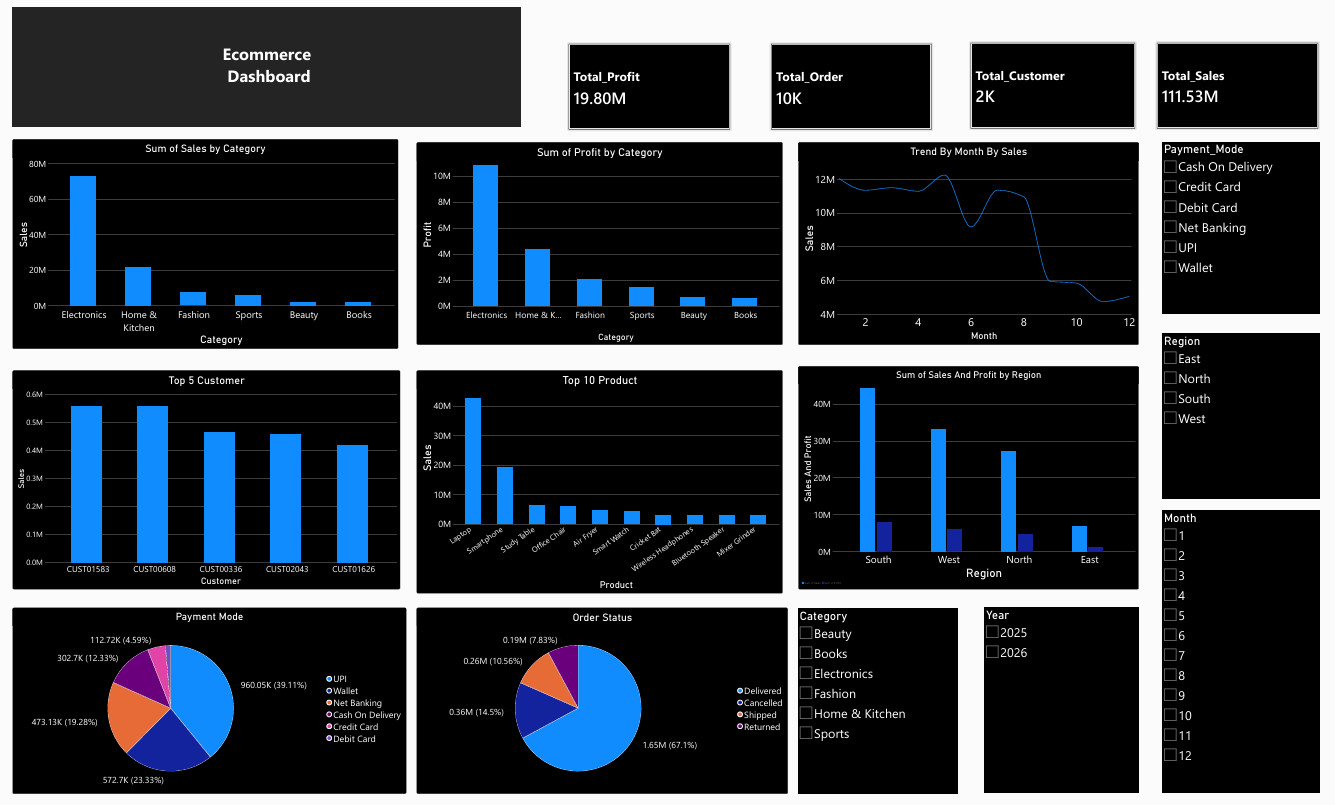

Layout of this report page (visuals, bound fields, positions):
{"tool":"powerbi","page":{"name":"Page 1","canvas":[7000,4449],"ordinal":0},"visuals":[{"type":"clusteredColumnChart","title":"Sum of Sales by Category","fields":{"Category":["Ecommerce_Cleaned_Data.Category"],"Y":["Sum(Ecommerce_Cleaned_Data.Sales)"]},"box":[135,745,1885,1025],"z":4000},{"type":"clusteredColumnChart","title":"Sum of Profit by Category","fields":{"Category":["Ecommerce_Cleaned_Data.Category"],"Y":["Sum(Ecommerce_Cleaned_Data.Profit)"]},"box":[2110,760,1790,990],"z":5000},{"type":"clusteredColumnChart","title":"Sum of Sales And Profit by Region","fields":{"Y":["Sum(Ecommerce_Cleaned_Data.Sales)","Sum(Ecommerce_Cleaned_Data.Profit)"],"Category":["Ecommerce_Cleaned_Data.Region"]},"box":[3975,1855,1665,1090],"z":6000},{"type":"lineChart","title":"Trend By Month By Sales","fields":{"Category":["Ecommerce_Cleaned_Data.Month"],"Y":["Sum(Ecommerce_Cleaned_Data.Sales)"]},"box":[3975,760,1665,990],"z":7000},{"type":"clusteredColumnChart","title":"Top 10 Product","fields":{"Category":["Ecommerce_Cleaned_Data.Product"],"Y":["Sum(Ecommerce_Cleaned_Data.Sales)"]},"box":[2110,1875,1790,1090],"z":8000},{"type":"clusteredColumnChart","title":"Top 5 Customer","fields":{"Y":["Sum(Ecommerce_Cleaned_Data.Sales)"],"Category":["Ecommerce_Cleaned_Data.Customer_ID"]},"box":[135,1875,1895,1070],"z":9000},{"type":"pieChart","title":"Payment Mode","fields":{"Category":["Ecommerce_Cleaned_Data.Payment_Mode"],"Y":["Sum(Ecommerce_Cleaned_Data.Sales)"]},"box":[135,3035,1925,910],"z":10000},{"type":"pieChart","title":"Order Status","fields":{"Category":["Ecommerce_Cleaned_Data.Order_Status"],"Y":["Sum(Ecommerce_Cleaned_Data.Sales)"]},"box":[2110,3035,1815,910],"z":11000},{"type":"slicer","fields":{"Values":["Ecommerce_Cleaned_Data.Year"]},"box":[4885,3035,755,905],"z":12000},{"type":"slicer","fields":{"Values":["Ecommerce_Cleaned_Data.Region"]},"box":[5755,1695,770,810],"z":13000},{"type":"slicer","fields":{"Values":["Ecommerce_Cleaned_Data.Month"]},"box":[5755,2560,770,1380],"z":14000},{"type":"slicer","fields":{"Values":["Ecommerce_Cleaned_Data.Category"]},"box":[3975,3040,780,905],"z":15000},{"type":"slicer","fields":{"Values":["Ecommerce_Cleaned_Data.Payment_Mode"]},"box":[5755,760,770,840],"z":16000},{"type":"cardVisual","fields":{"Data":["Ecommerce_Cleaned_Data.Total_Sales"]},"box":[5720,265,805,435],"z":16001},{"type":"cardVisual","fields":{"Data":["Ecommerce_Cleaned_Data.Total_Customer"]},"box":[4810,265,820,435],"z":16002},{"type":"cardVisual","fields":{"Data":["Ecommerce_Cleaned_Data.Total_Order"]},"box":[3835,270,800,435],"z":16003},{"type":"cardVisual","fields":{"Data":["Ecommerce_Cleaned_Data.Total_Profit"]},"box":[2845,270,805,435],"z":16004},{"type":"textbox","box":[135,0,805,435],"z":16005},{"type":"textbox","box":[1080,0,805,210],"z":16006},{"type":"textbox","box":[3975,210,175,210],"z":16007},{"type":"textbox","box":[1885,0,175,210],"z":16009},{"type":"textbox","box":[2110,0,805,210],"z":16010},{"type":"textbox","box":[135,100,2485,585],"z":16011}]}

Visuals, with their boxes on the page's 7000x4449 design canvas (x1, y1, x2, y2). These are canvas units, not pixel positions in the 1335x805 screenshot, which may show the page scaled, cropped or inside an application window:
"Sum of Sales by Category" clusteredColumnChart: locate(135, 745, 2020, 1770)
"Sum of Profit by Category" clusteredColumnChart: locate(2110, 760, 3900, 1750)
"Sum of Sales And Profit by Region" clusteredColumnChart: locate(3975, 1855, 5640, 2945)
"Trend By Month By Sales" lineChart: locate(3975, 760, 5640, 1750)
"Top 10 Product" clusteredColumnChart: locate(2110, 1875, 3900, 2965)
"Top 5 Customer" clusteredColumnChart: locate(135, 1875, 2030, 2945)
"Payment Mode" pieChart: locate(135, 3035, 2060, 3945)
"Order Status" pieChart: locate(2110, 3035, 3925, 3945)
slicer - Ecommerce_Cleaned_Data.Year: locate(4885, 3035, 5640, 3940)
slicer - Ecommerce_Cleaned_Data.Region: locate(5755, 1695, 6525, 2505)
slicer - Ecommerce_Cleaned_Data.Month: locate(5755, 2560, 6525, 3940)
slicer - Ecommerce_Cleaned_Data.Category: locate(3975, 3040, 4755, 3945)
slicer - Ecommerce_Cleaned_Data.Payment_Mode: locate(5755, 760, 6525, 1600)
cardVisual - Ecommerce_Cleaned_Data.Total_Sales: locate(5720, 265, 6525, 700)
cardVisual - Ecommerce_Cleaned_Data.Total_Customer: locate(4810, 265, 5630, 700)
cardVisual - Ecommerce_Cleaned_Data.Total_Order: locate(3835, 270, 4635, 705)
cardVisual - Ecommerce_Cleaned_Data.Total_Profit: locate(2845, 270, 3650, 705)
textbox: locate(135, 0, 940, 435)
textbox: locate(1080, 0, 1885, 210)
textbox: locate(3975, 210, 4150, 420)
textbox: locate(1885, 0, 2060, 210)
textbox: locate(2110, 0, 2915, 210)
textbox: locate(135, 100, 2620, 685)
